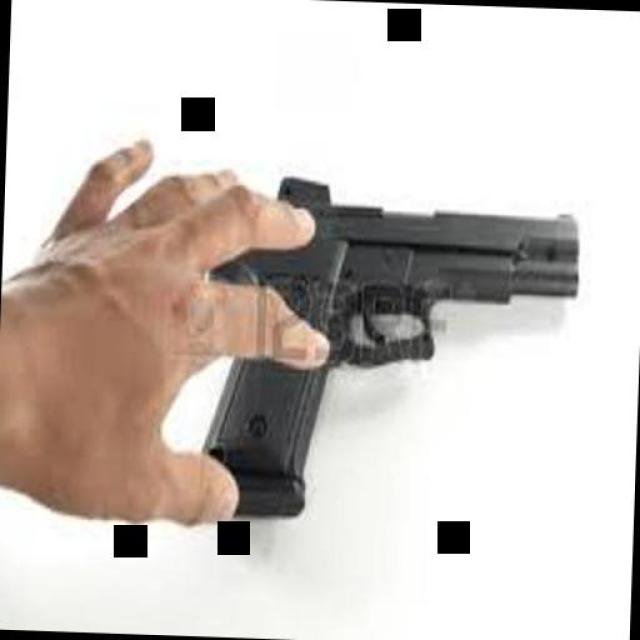gun: (170, 168, 584, 516)
